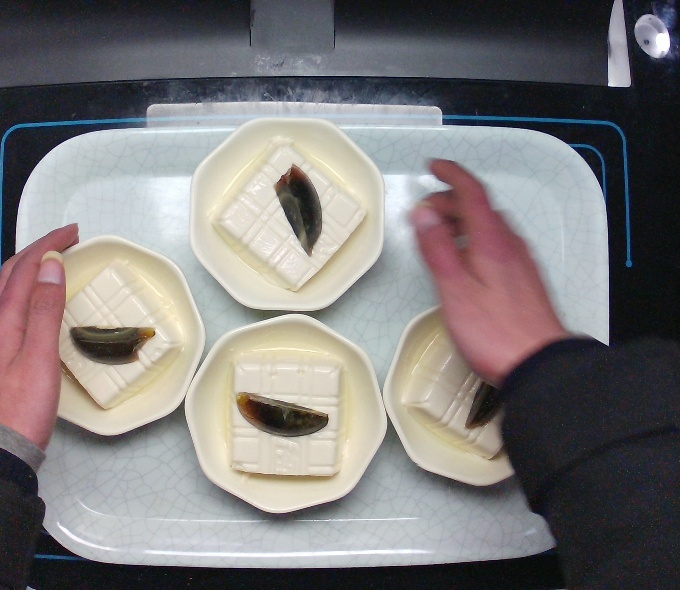wcq-PiDanDouFu: (215, 136, 372, 289), (404, 305, 547, 465), (47, 260, 182, 418), (218, 341, 357, 487)
